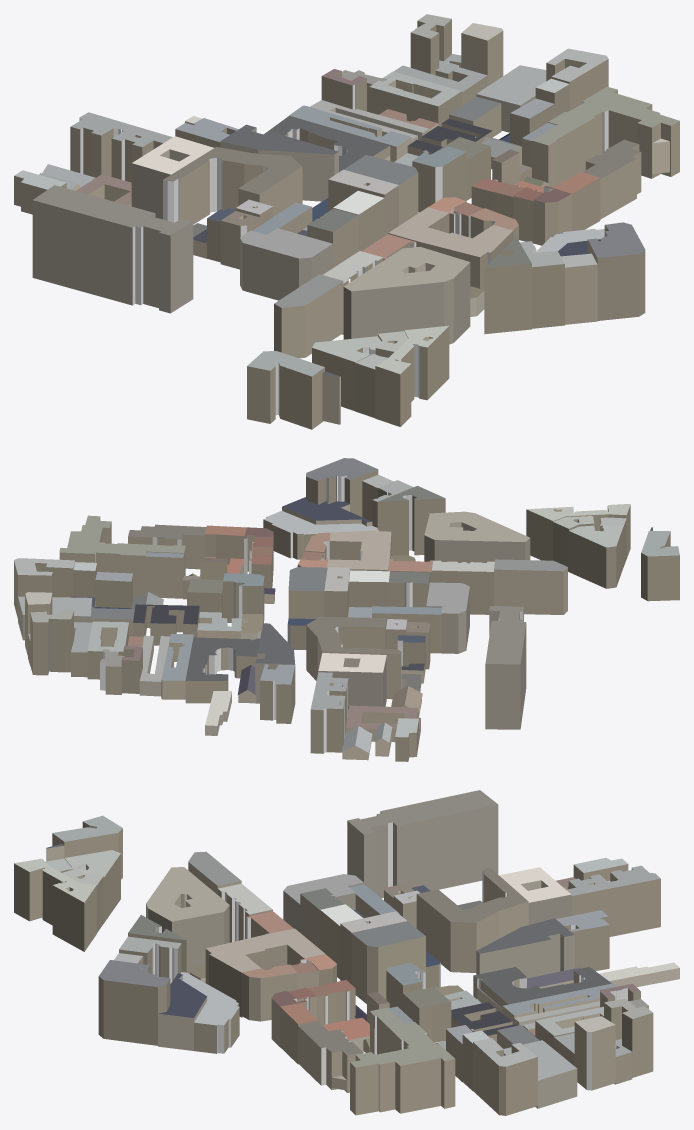
3 views of the same model, one above another, from view 1: azimuth 30°, elevation 25°; view 2: azimuth 150°, elevation 25°; view 3: azimuth 270°, elevation 25° (orthographic). The views are drawn at different scales.
Visible parts, largest first — view 1: tuile; view 2: tuile; view 3: tuile.
Boxes of the visible parts, left/top/right/bottom form: tuile: left=14, top=14, right=679, bottom=429; tuile: left=14, top=458, right=679, bottom=761; tuile: left=14, top=790, right=679, bottom=1115.
Size of the model in its own units: 266 by 33.56 by 279.
